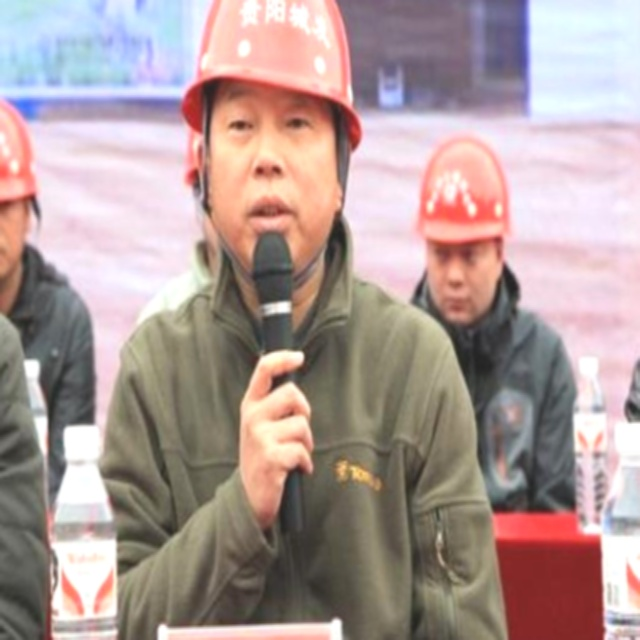Sin_Casco_Mascarrilla: (186, 0, 364, 268)
Sin_Chaleco: (104, 282, 463, 640)
